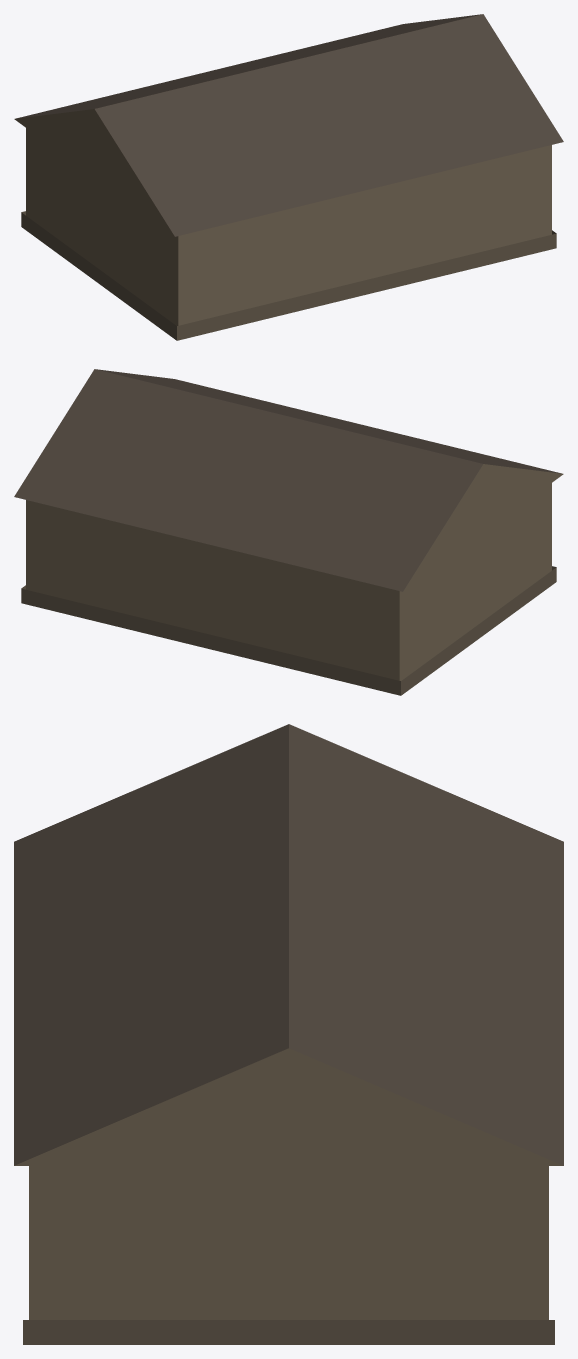
File: zoo-a09720.glb
3 views of the same model, one above another, from view 1: azimuth 30°, elevation 25°; view 2: azimuth 150°, elevation 25°; view 3: azimuth 270°, elevation 25° (orthographic). The views are drawn at different scales.
Visible parts, largest first — view 1: zoo_a09720; view 2: zoo_a09720; view 3: zoo_a09720.
Boxes of the visible parts, x1,y1,x2,y2 form: zoo_a09720: (14,14,563,340); zoo_a09720: (14,369,563,695); zoo_a09720: (14,724,563,1344).
Bounding box in the file's own units: 15.2 × 6.58 × 10.9.
